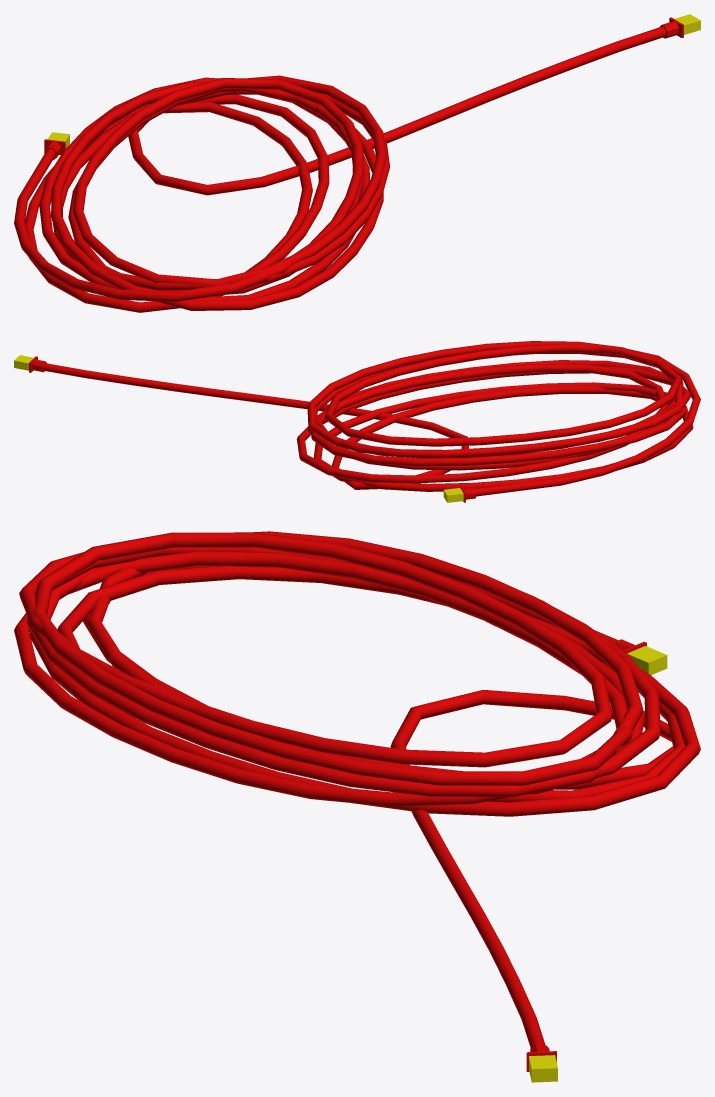
The model's file is Folded Cable 3.fbx.
3 views of the same model, one above another, from view 1: azimuth 30°, elevation 25°; view 2: azimuth 150°, elevation 25°; view 3: azimuth 270°, elevation 25° (orthographic). The views are drawn at different scales.
Parts seen in each view (by area): view 1: Wthernet Cable 2; view 2: Wthernet Cable 2; view 3: Wthernet Cable 2.
Part boxes in pixels (x1,y1,x2,y2): Wthernet Cable 2: [14, 14, 700, 312]; Wthernet Cable 2: [14, 341, 700, 502]; Wthernet Cable 2: [14, 531, 700, 1082].
Size of the model in its own units: 65.9 by 4.11 by 36.9.
